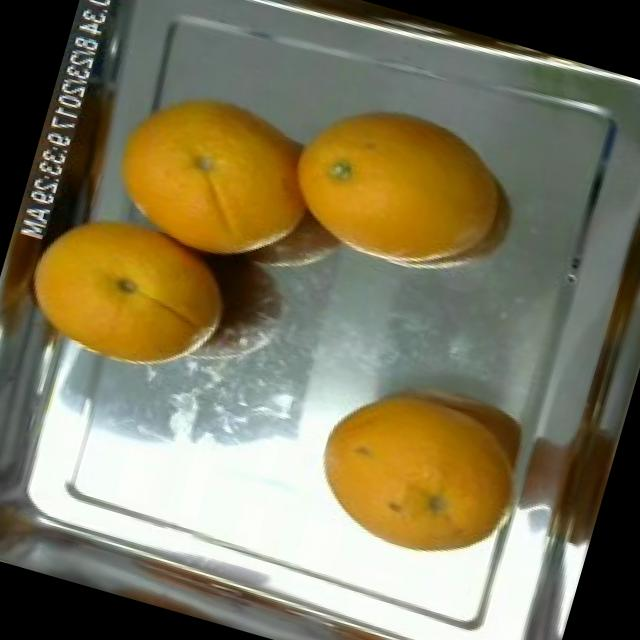Fruit: (77, 48, 346, 286), (0, 179, 242, 391)
